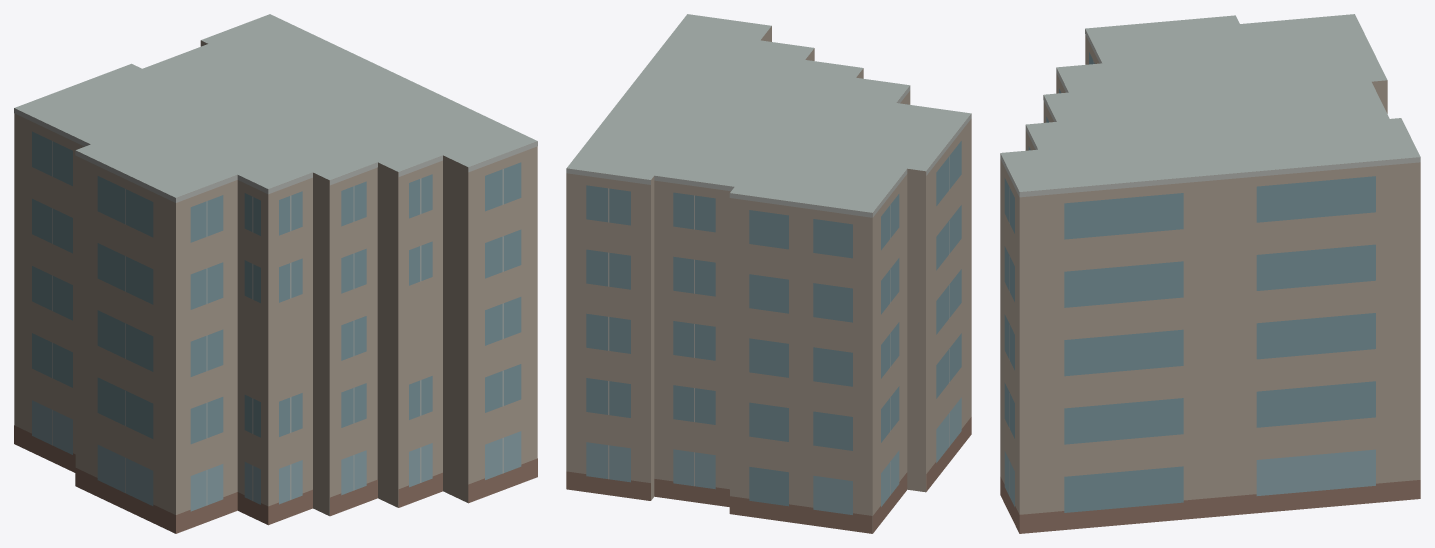
The model's file is survey-upis-32670303.glb.
3 renders of one model, left to right at view 1: azimuth 30°, elevation 25°; view 2: azimuth 150°, elevation 25°; view 3: azimuth 270°, elevation 25°, orthographic. The views are drawn at different scales.
Visible parts, largest first — view 1: survey-upis-32670303.tmp; view 2: survey-upis-32670303.tmp; view 3: survey-upis-32670303.tmp.
Boxes of the visible parts, <box> form: survey-upis-32670303.tmp: <box>14,14,537,533</box>; survey-upis-32670303.tmp: <box>566,14,971,533</box>; survey-upis-32670303.tmp: <box>1000,14,1420,533</box>.
Size of the model in its own units: 17.72 by 15.85 by 17.68.
